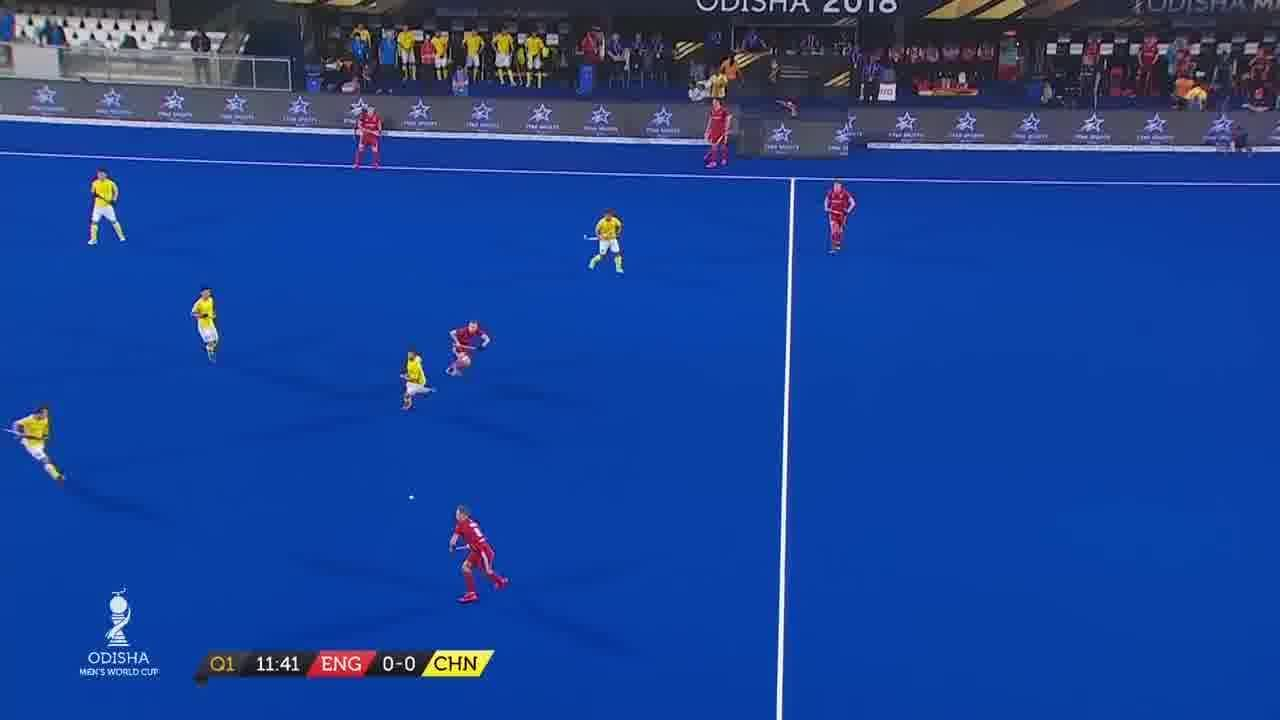ball: (402, 490, 422, 505)
